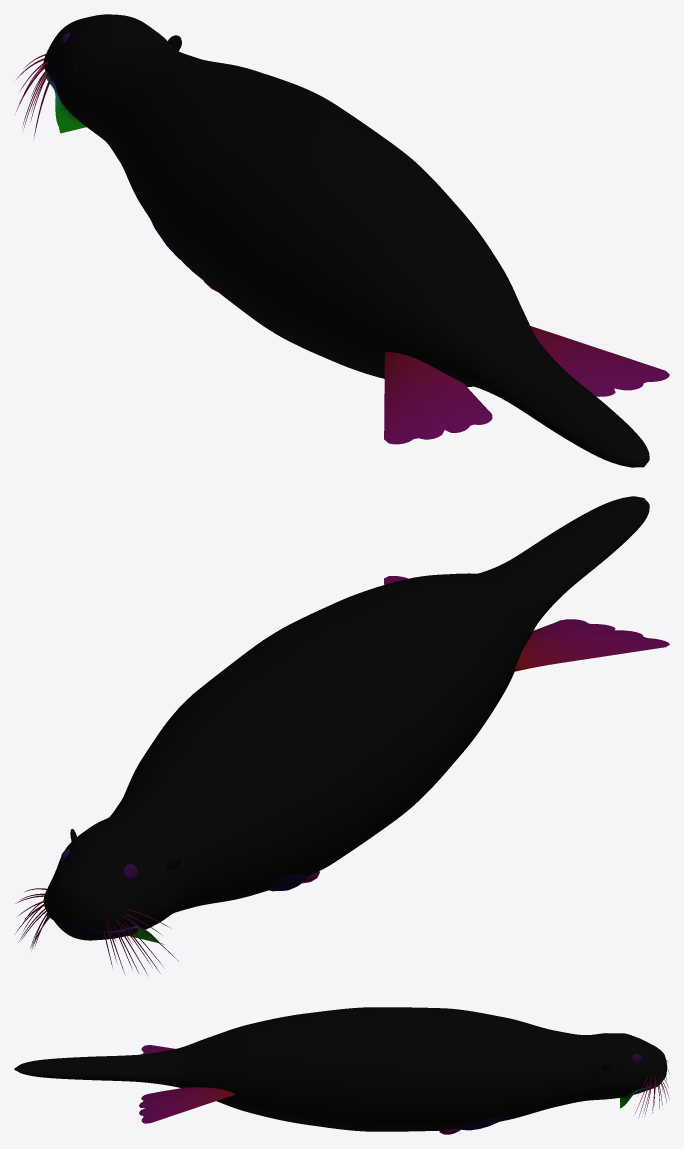
File: sea_otter.glb
3 renders of one model, top to bottom at view 1: azimuth 30°, elevation 25°; view 2: azimuth 150°, elevation 25°; view 3: azimuth 270°, elevation 25°, orthographic. The views are drawn at different scales.
Parts seen in each view (by area): view 1: sea_otter; view 2: sea_otter; view 3: sea_otter.
Part boxes in pixels (<box>): sea_otter: <box>14,14,669,467</box>; sea_otter: <box>15,496,669,974</box>; sea_otter: <box>14,1007,669,1134</box>.
Size of the model in its own units: 0.3696 by 0.242 by 1.31.
